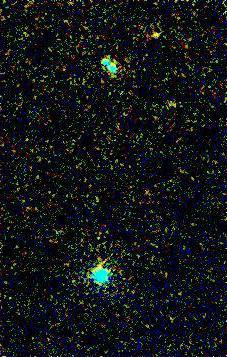star: (138, 21, 168, 51)
